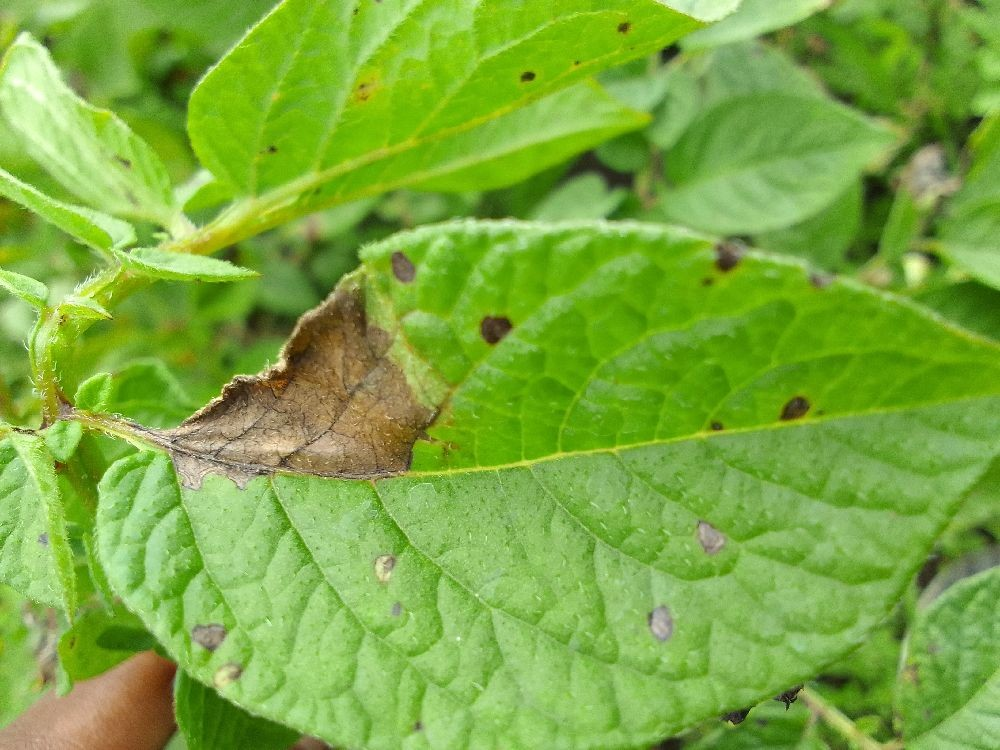late_blight: (165, 270, 454, 499), (0, 627, 200, 750)
